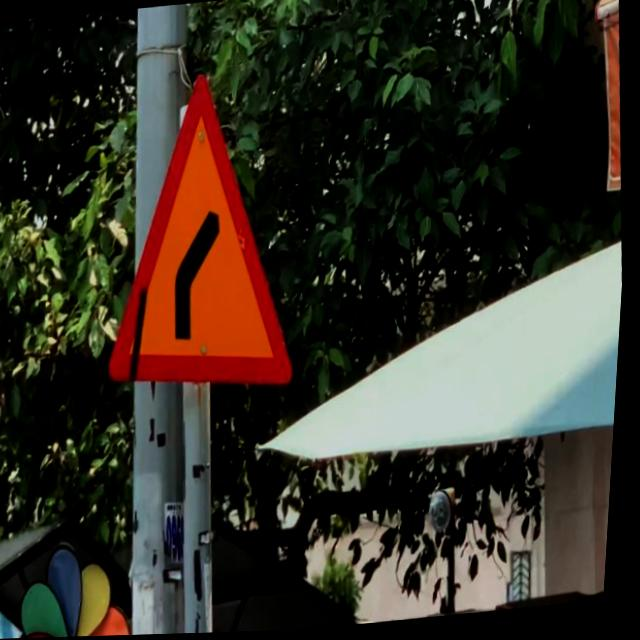cho ngoat nguy hiem vong ben phai: (78, 58, 319, 424)
